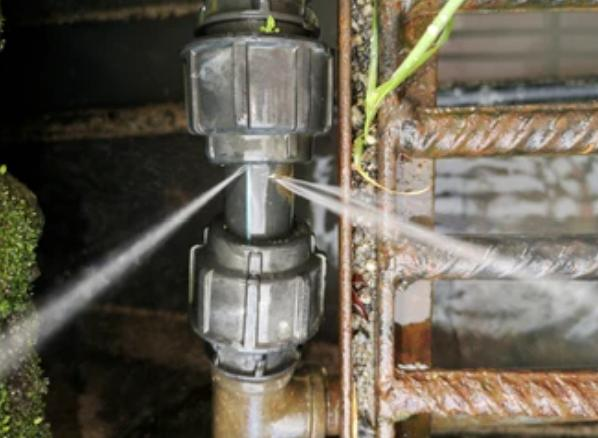pipe burst: (0, 164, 249, 381), (269, 174, 570, 296)
